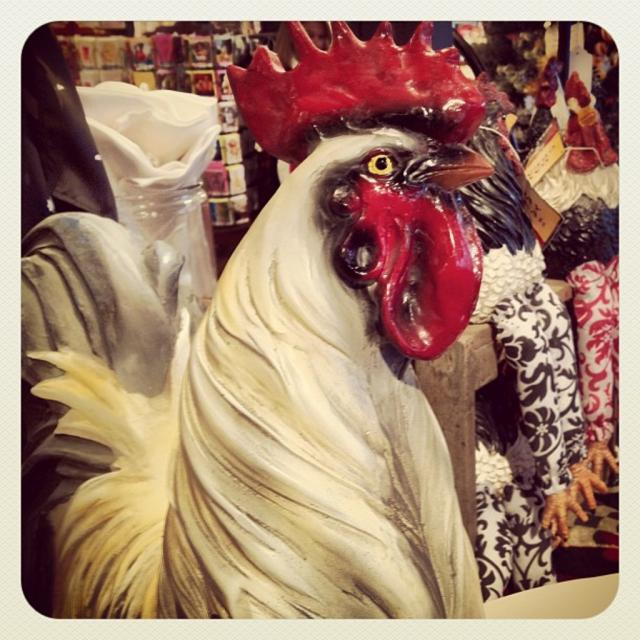Chicken: (15, 5, 492, 639)
